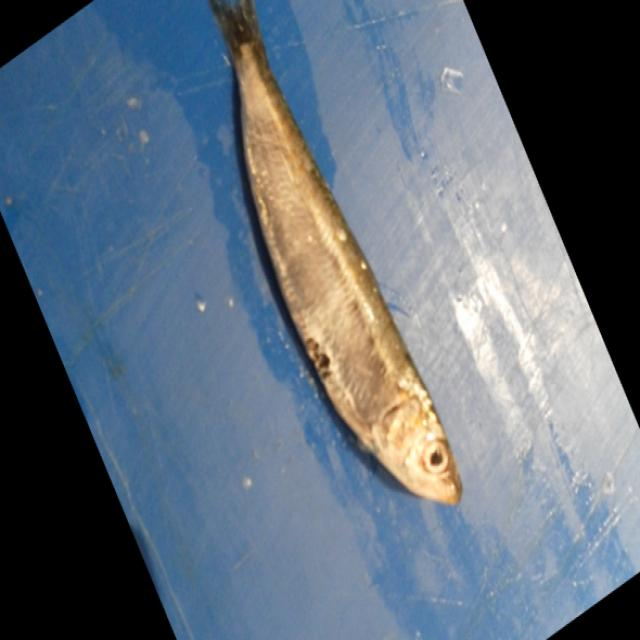Black-Sea-Sprat-tirsi-: (207, 0, 463, 508)
